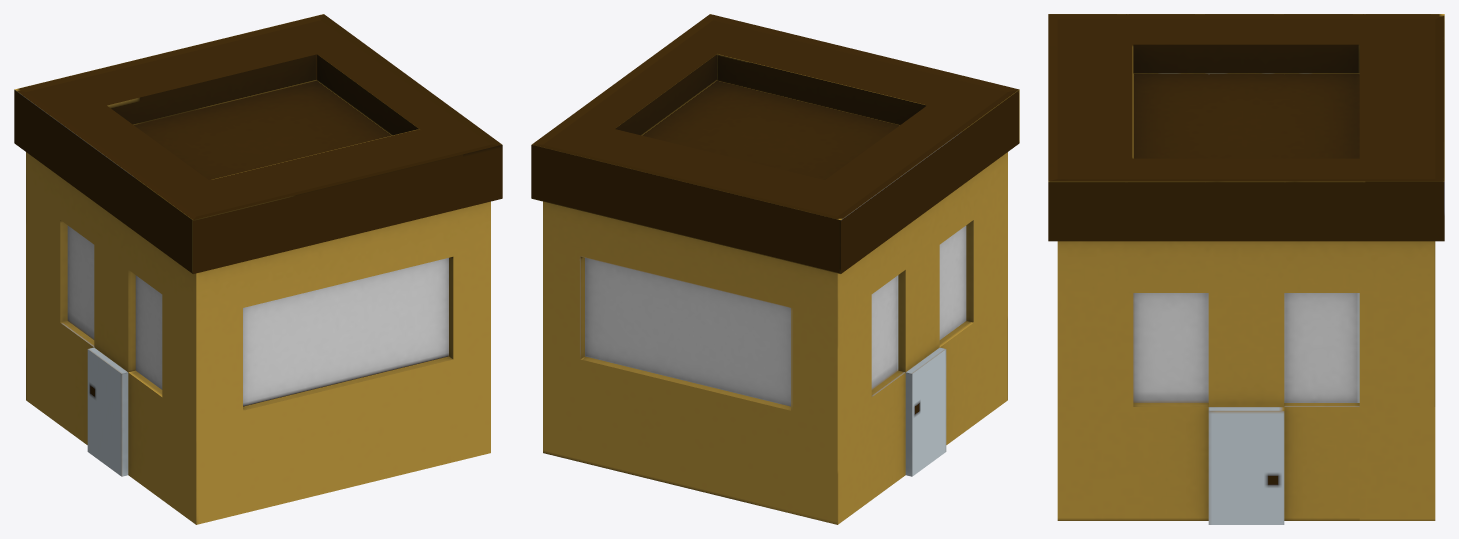
Rendered from lowpolybuild7OLD.glb.
3 views of the same model, side by side, from view 1: azimuth 30°, elevation 25°; view 2: azimuth 150°, elevation 25°; view 3: azimuth 270°, elevation 25° (orthographic). The views are drawn at different scales.
Parts seen in each view (by area): view 1: Plane; view 2: Plane; view 3: Plane.
Part boxes in pixels (box(x1,y1,x2,y2)): Plane: box(14, 14, 502, 524); Plane: box(531, 14, 1019, 524); Plane: box(1048, 14, 1444, 524).
Size of the model in its own units: 2.1 by 2.01 by 2.1.
Materials: 1 (1 with a texture image).
